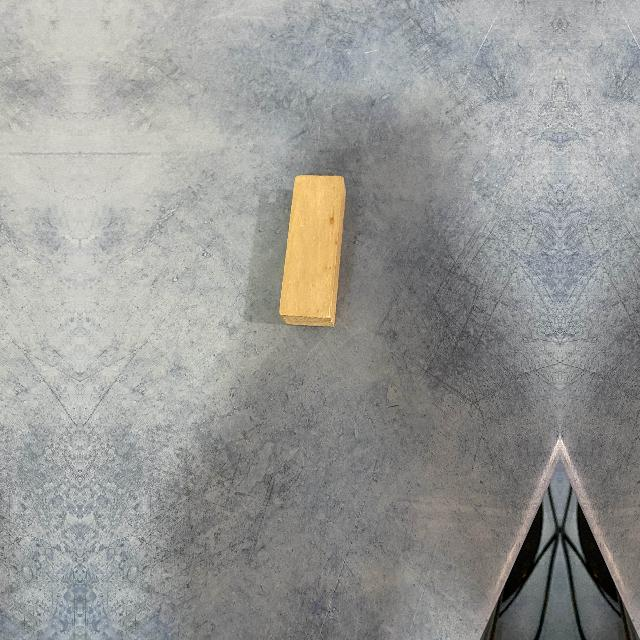jenga: (279, 175, 345, 327)
